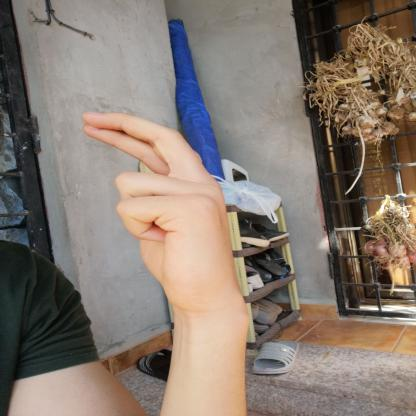ZAY: (66, 100, 254, 314)
